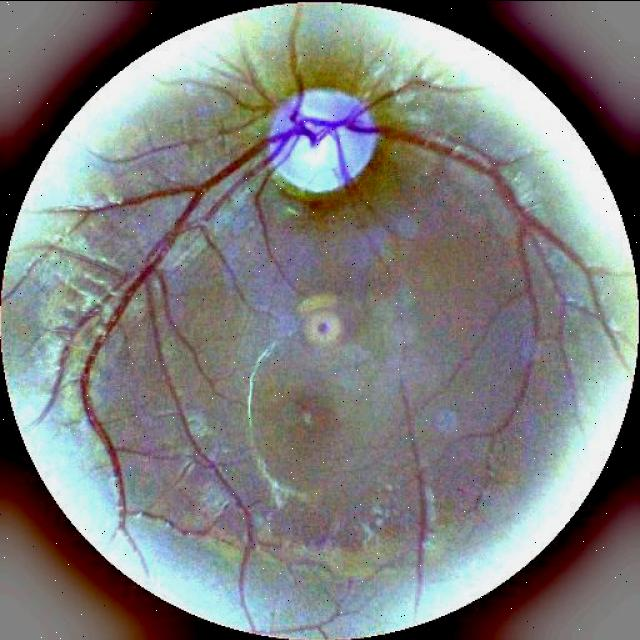Macula: (311, 315, 338, 343)
Nerves: (82, 10, 579, 509), (190, 155, 271, 228)
Optic Disk: (269, 88, 372, 188)
